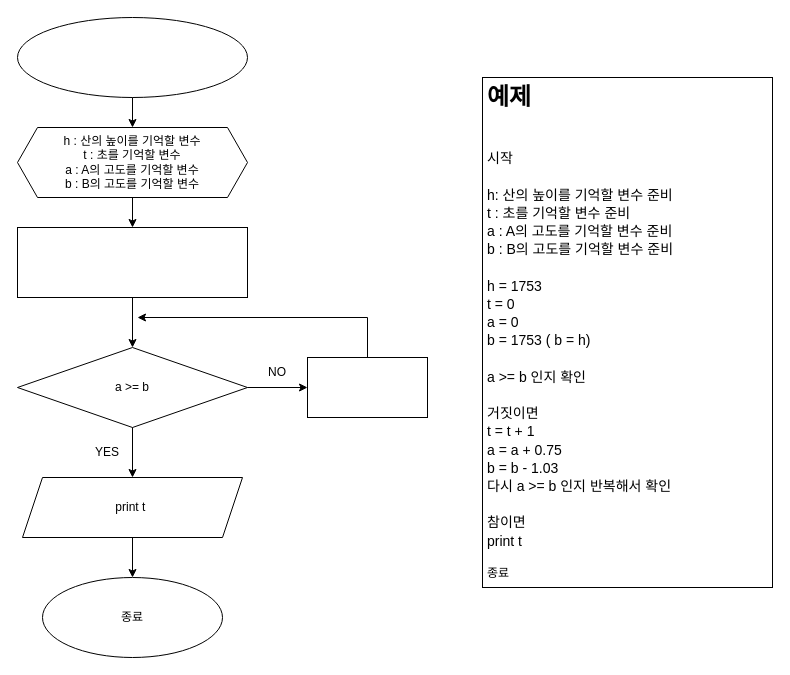
Image size: 790x675. Some labels were removed from this diagram. Each missing label, with the centre of its shape:
h = 1753 t = 0 a = 0 b = 1753: the point at 132,262
t = t + 1 a = a + 0.75 b = b - 1.03: the point at 367,387
시작: the point at 132,57
